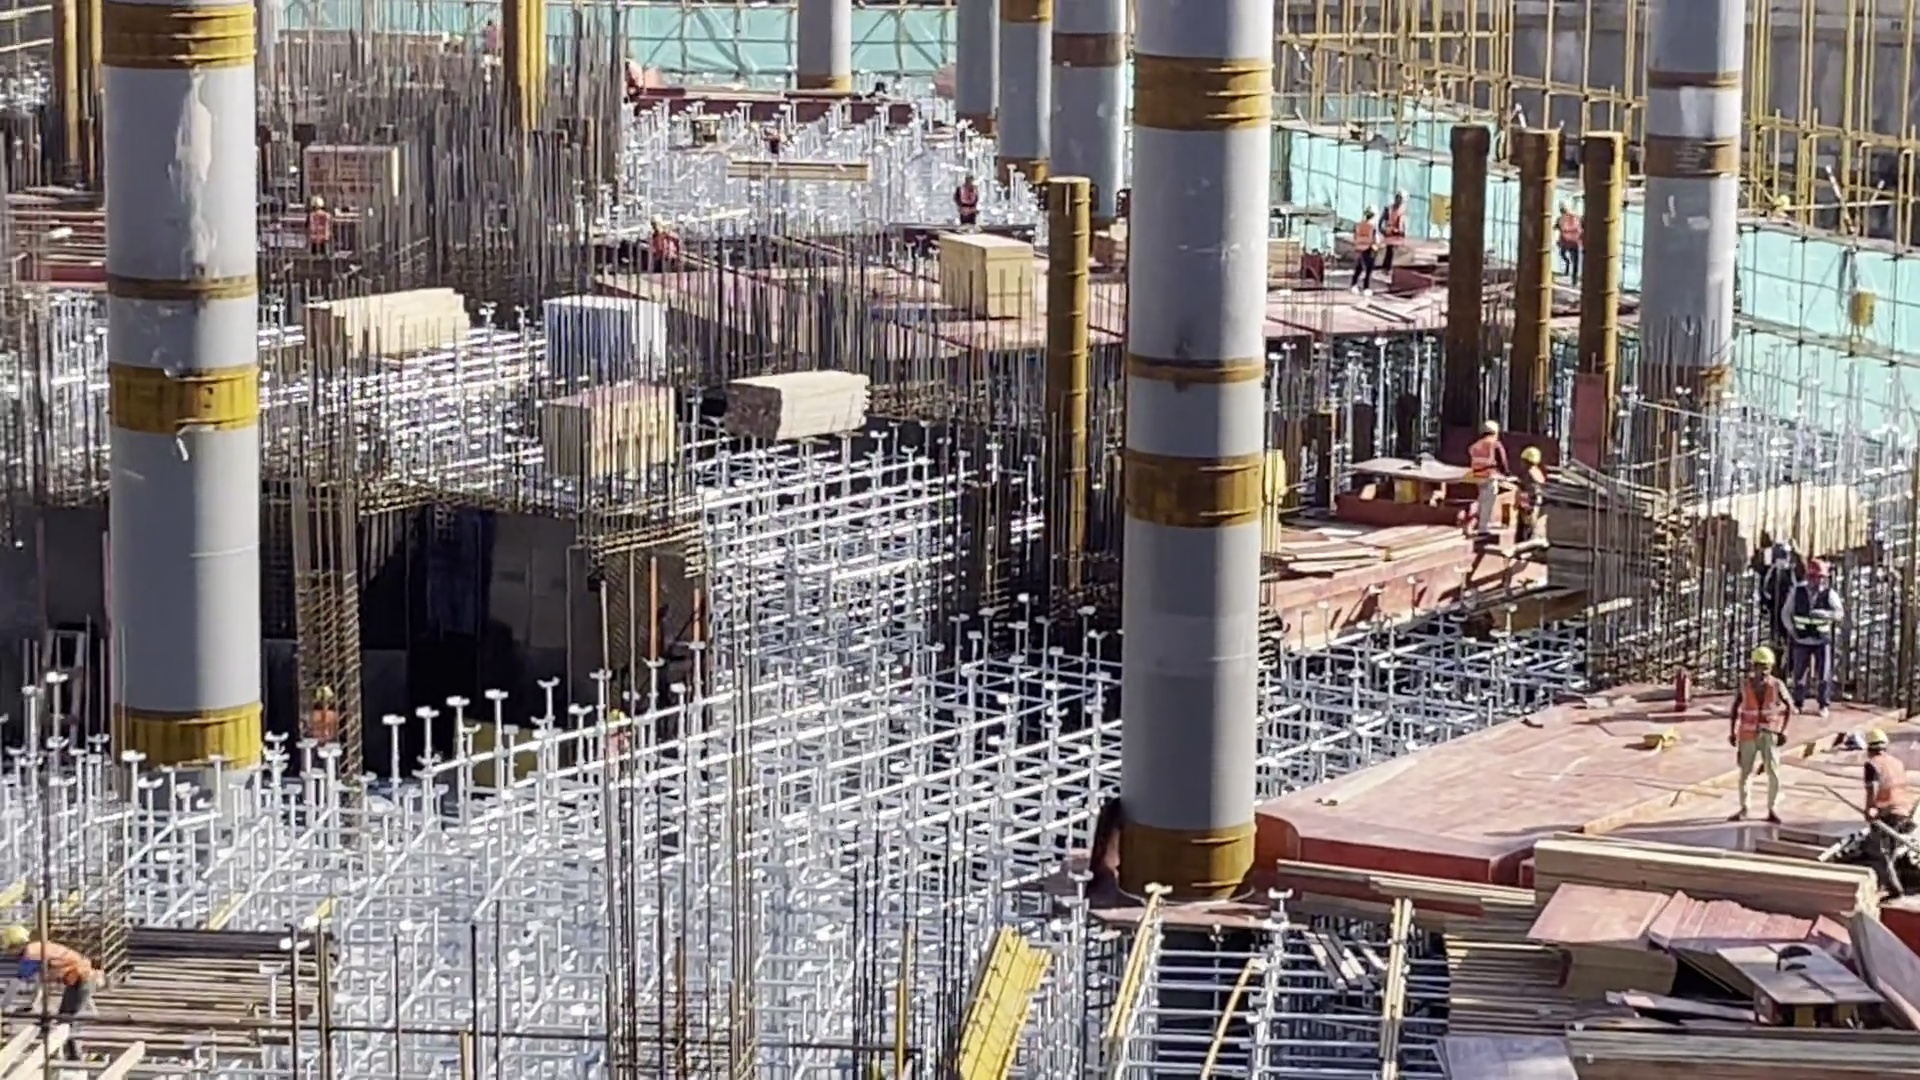board: (1515, 874, 1800, 1002)
helmet: (1863, 721, 1890, 757), (1762, 543, 1793, 572), (1746, 639, 1770, 675), (1520, 449, 1551, 476), (1809, 562, 1830, 587), (1477, 422, 1498, 439), (1389, 189, 1402, 204), (1553, 199, 1570, 211), (1358, 207, 1373, 220)
person: (1728, 642, 1797, 821), (1848, 727, 1916, 896), (3, 929, 102, 1043), (1793, 555, 1840, 714), (1757, 527, 1805, 638), (1465, 421, 1509, 536), (297, 677, 354, 757), (1514, 440, 1549, 548), (1550, 197, 1584, 285), (1372, 187, 1407, 269), (1349, 207, 1381, 291), (639, 215, 682, 270), (949, 174, 979, 231)
vest: (1737, 678, 1782, 757), (23, 938, 86, 992), (1864, 757, 1906, 826), (1796, 587, 1831, 645), (1469, 437, 1497, 481), (1560, 214, 1582, 257), (1386, 209, 1402, 242), (957, 185, 975, 211), (1356, 223, 1370, 252)
wood: (1549, 472, 1674, 622)
